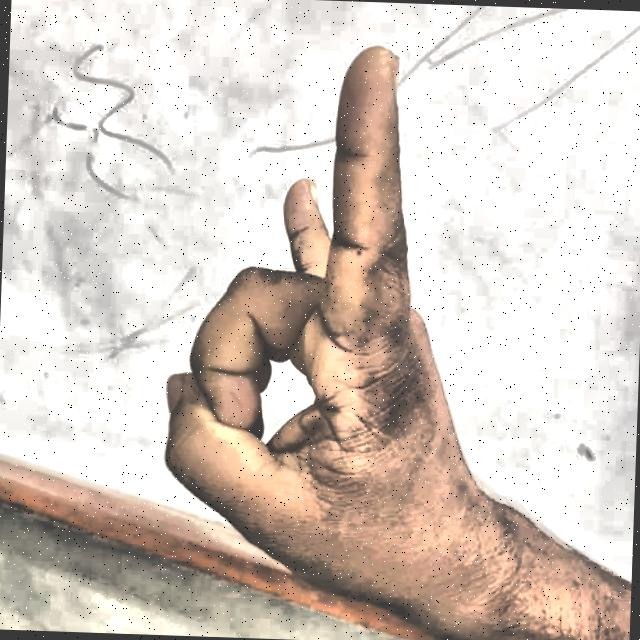Cha: (116, 36, 569, 640)
